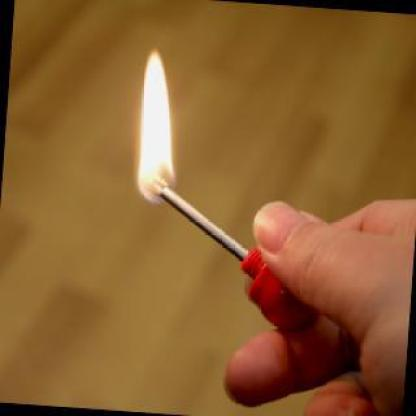Fire: (130, 47, 176, 207)
